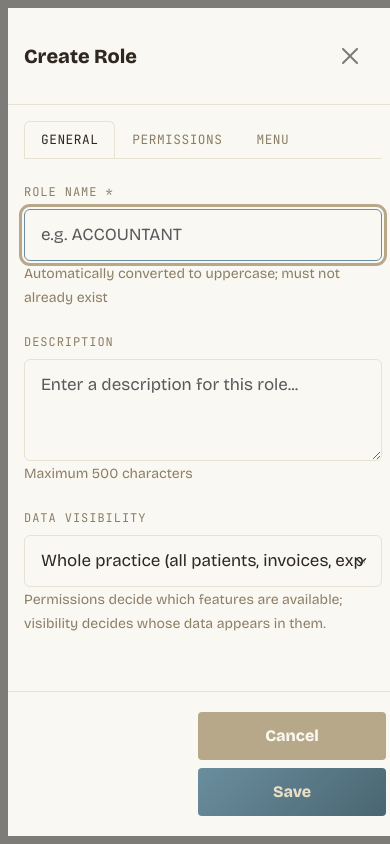
Test: RoleModal › rejects an invalid name
In the field with placeholder "e.g. ACCOUNTANT": x=203, y=235 24,209 -> 382,260, type "1"
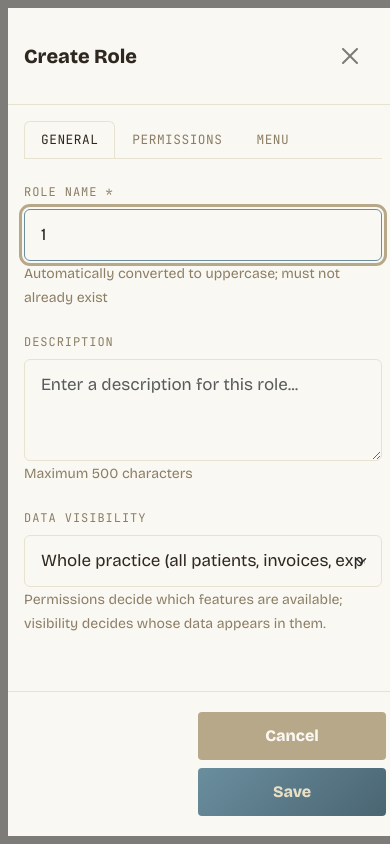
Click the button "Save": x=292, y=792 198,768 -> 386,816
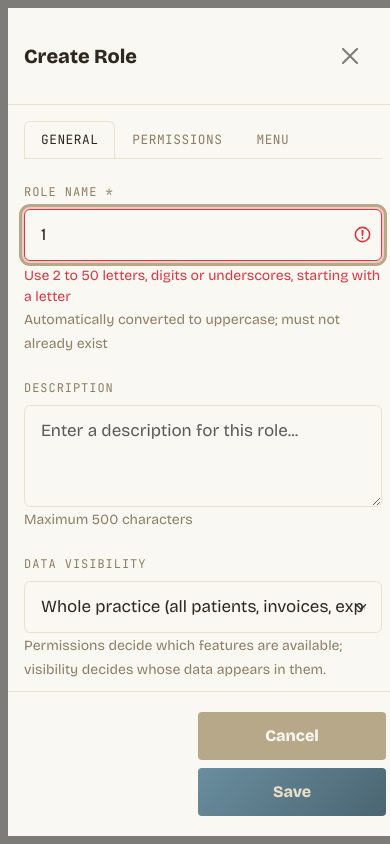
Expected: the text "Use 2 to 50 letters" is shown, 24,266 -> 380,304
